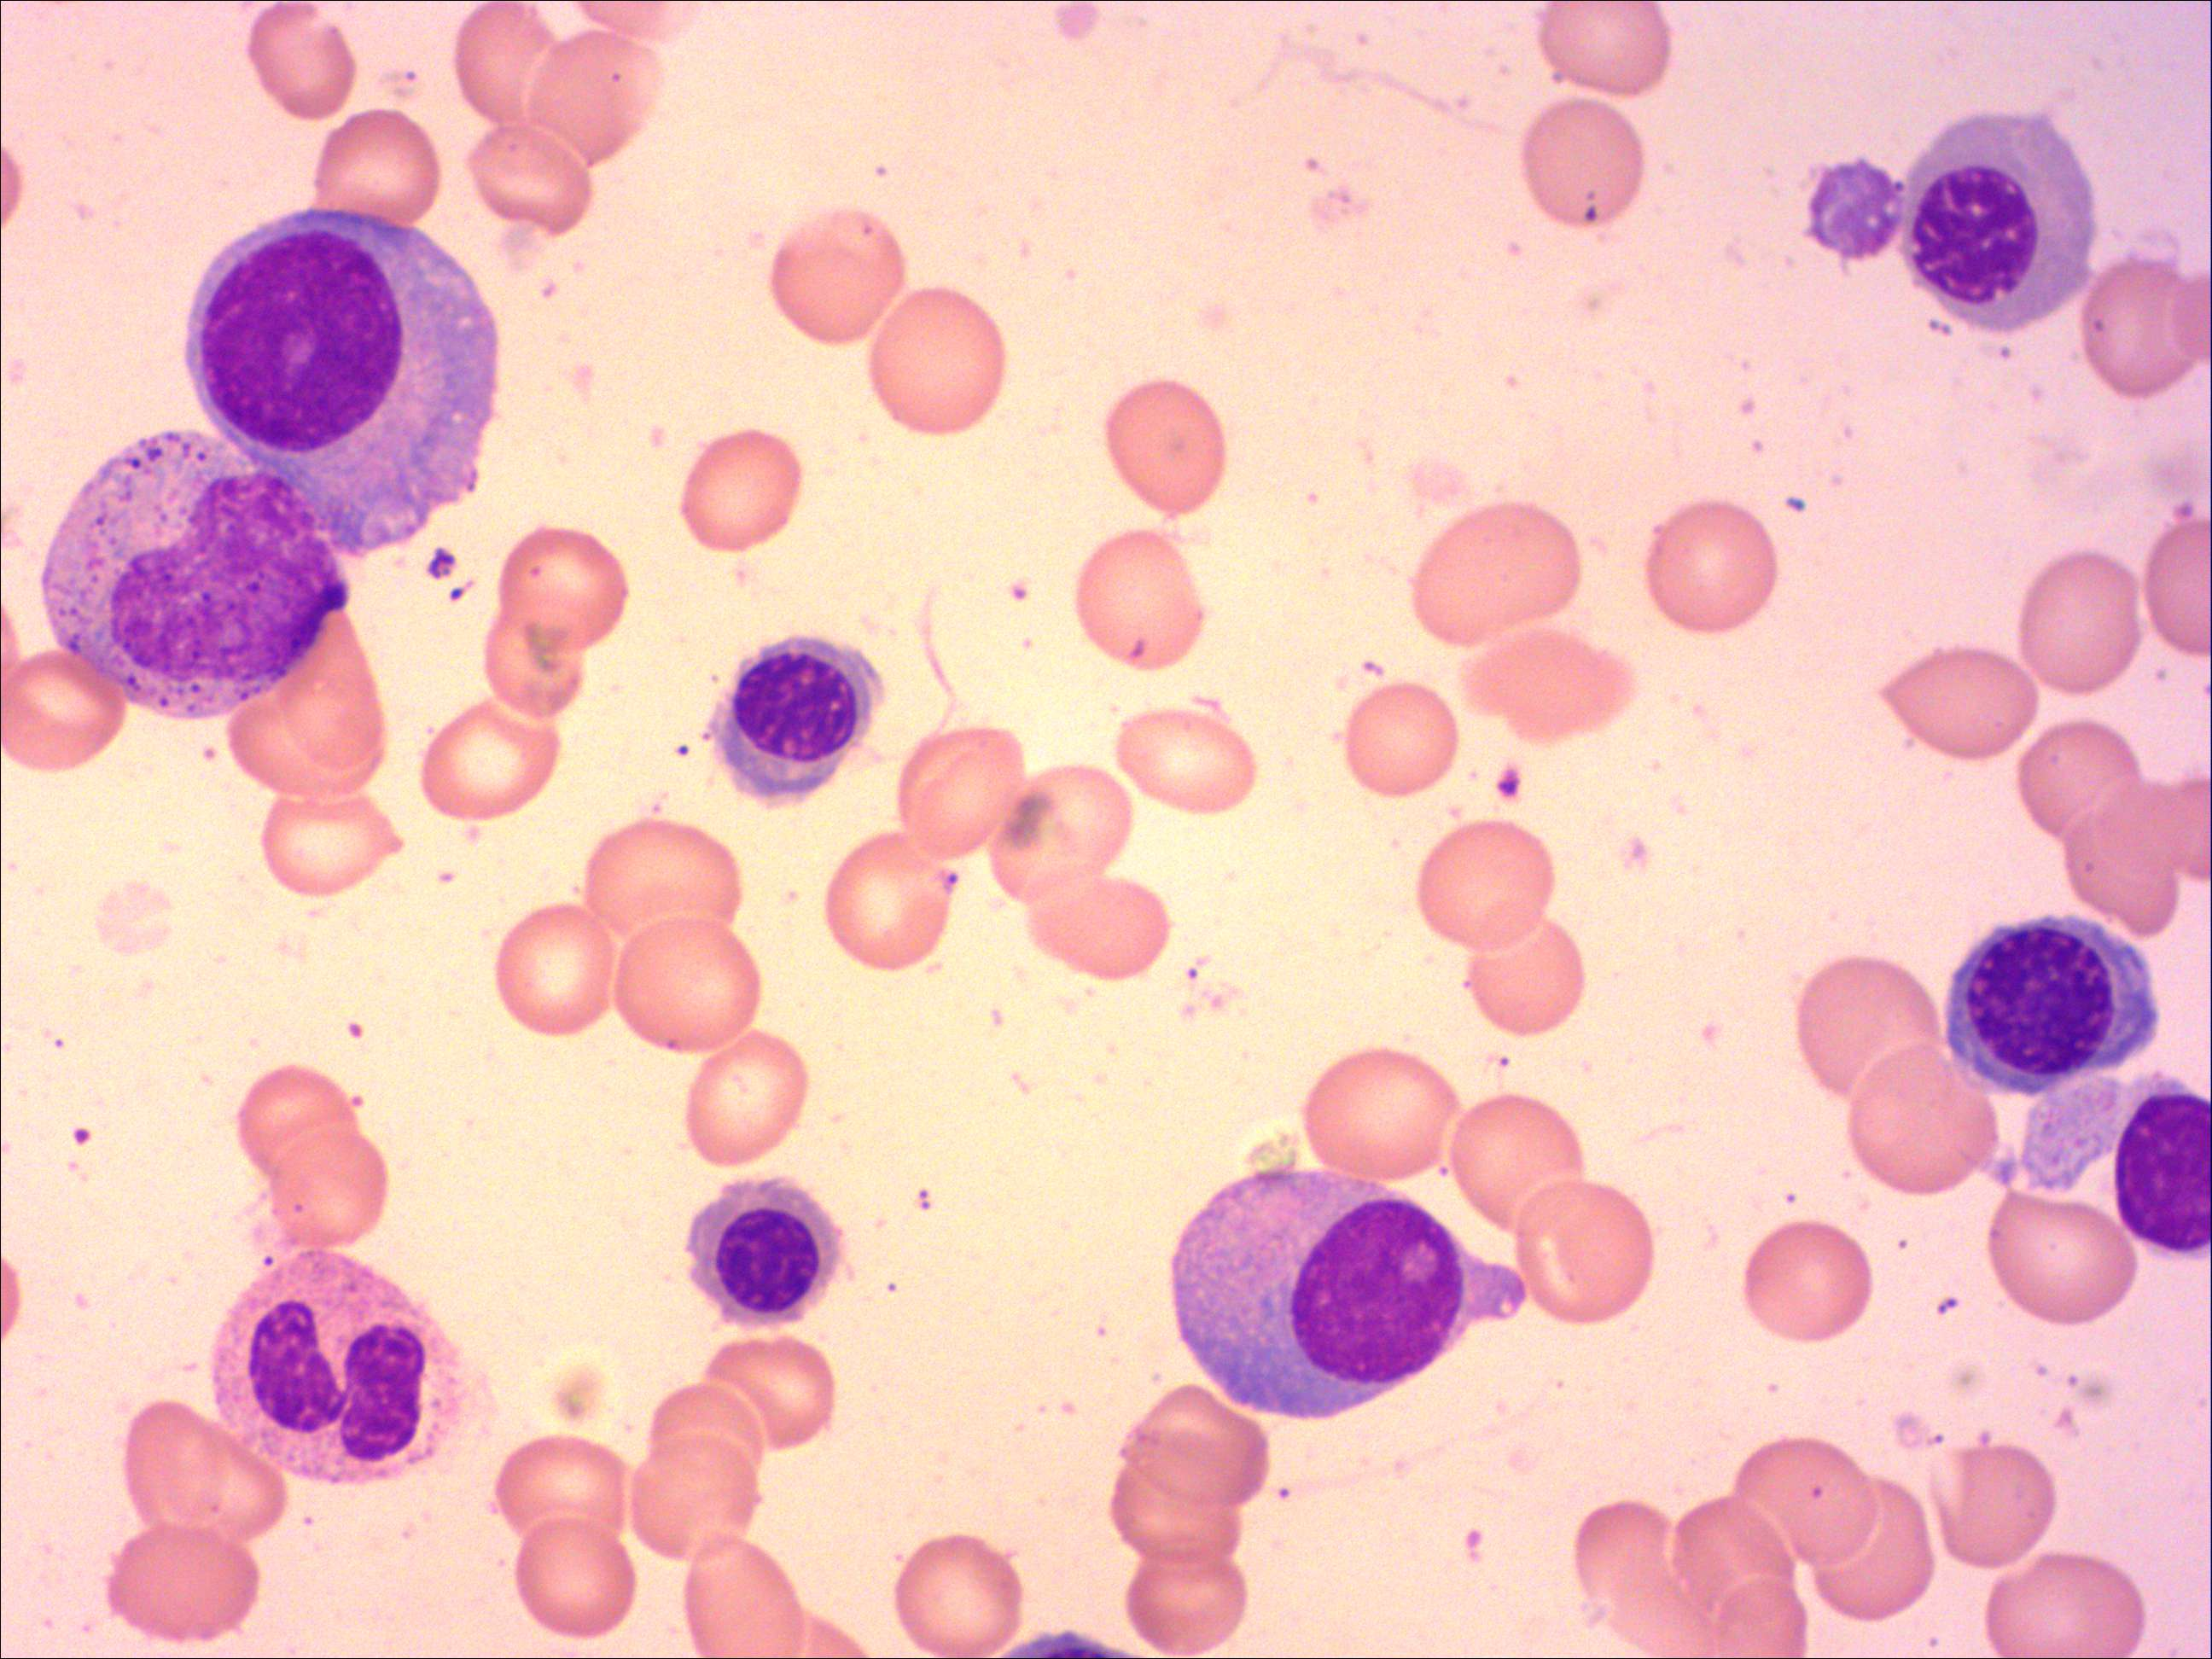23: (1940, 911, 2163, 1103)
24: (1898, 108, 2102, 335), (700, 627, 890, 810), (681, 1173, 850, 1335)
3: (35, 423, 355, 727)
51: (179, 206, 505, 568), (1163, 1162, 1531, 1429)
6: (202, 1244, 475, 1492)
x: (2012, 1065, 2212, 1265)
